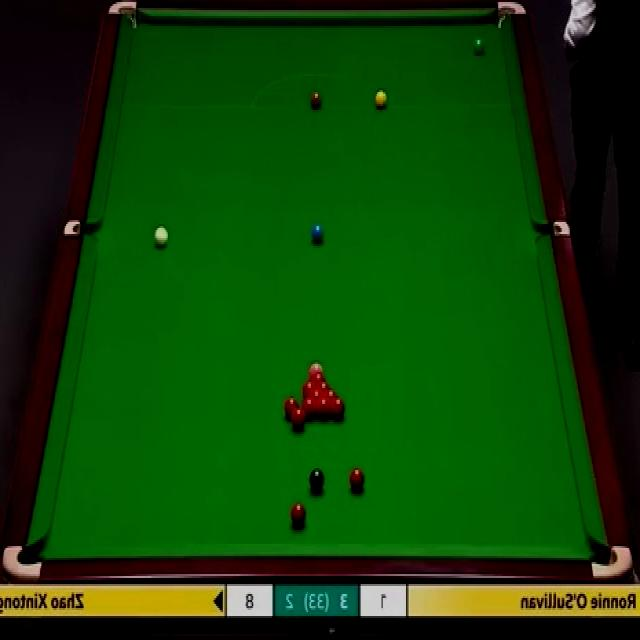black-ball: (308, 468, 324, 494)
blue-ball: (311, 224, 324, 243)
brown-ball: (310, 91, 323, 110)
green-ball: (473, 38, 485, 56)
pink-ball: (307, 360, 324, 373)
red-ball: (349, 466, 366, 492), (290, 502, 305, 528), (301, 397, 316, 420), (331, 396, 346, 418), (292, 408, 306, 431), (284, 396, 298, 419), (317, 396, 331, 418), (302, 380, 315, 396), (310, 370, 328, 380), (316, 380, 332, 390), (308, 389, 324, 397), (324, 389, 338, 398)
white-ball: (152, 224, 169, 251)
yellow-ball: (375, 89, 388, 108)
